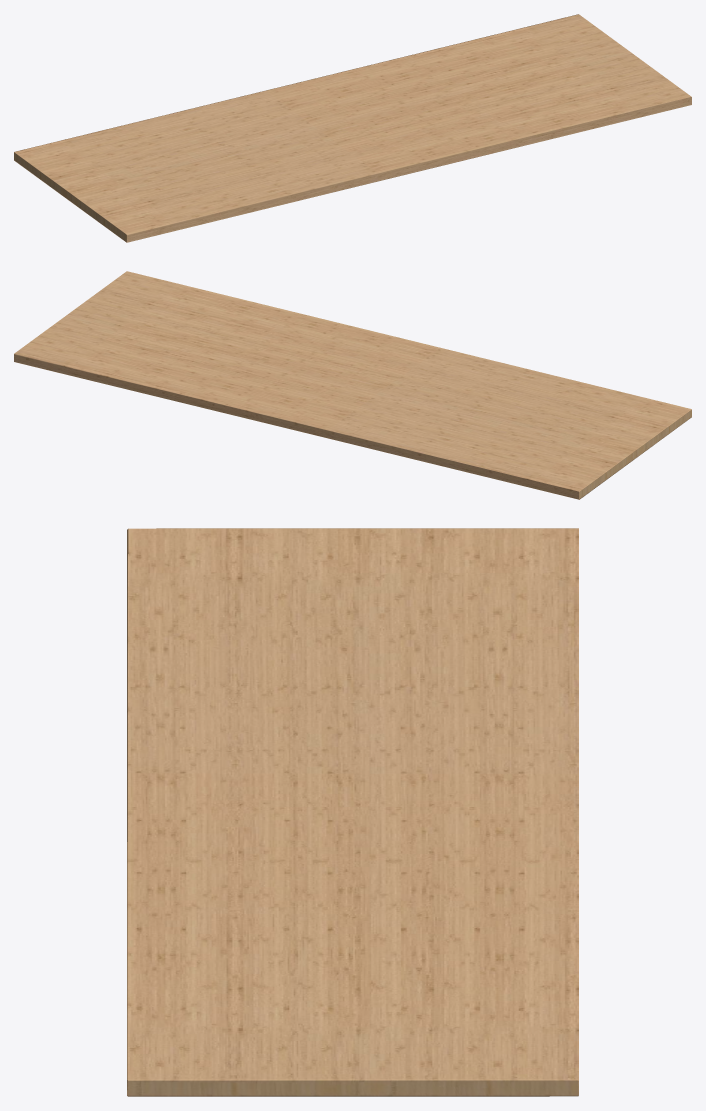
File: holmared_countertop_bamboo_veneer.glb
The picture shows the model from 3 angles, top to bottom: view 1: azimuth 30°, elevation 25°; view 2: azimuth 150°, elevation 25°; view 3: azimuth 270°, elevation 25°; orthographic projection. The views are drawn at different scales.
Visible parts, largest first — view 1: model; view 2: model; view 3: model.
Boxes of the visible parts, left/top/right/bottom form: model: left=14, top=14, right=691, bottom=242; model: left=14, top=271, right=691, bottom=499; model: left=127, top=528, right=578, bottom=1096.
Size of the model in its own units: 1.88 by 0.0266 by 0.6512.
1 material, 1 textured.
